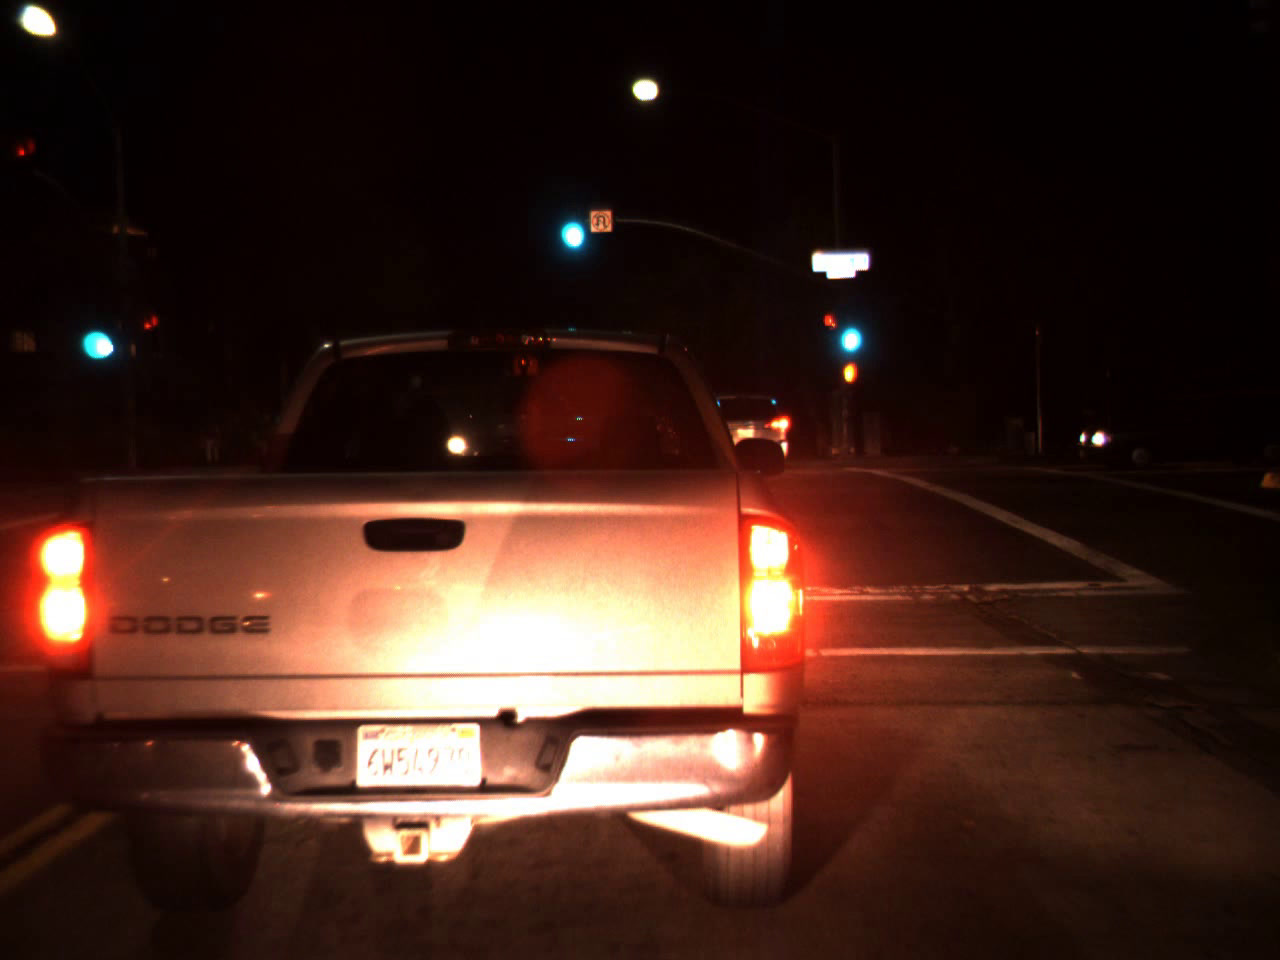go: (72, 295, 115, 370), (551, 188, 590, 260), (833, 294, 866, 363)
